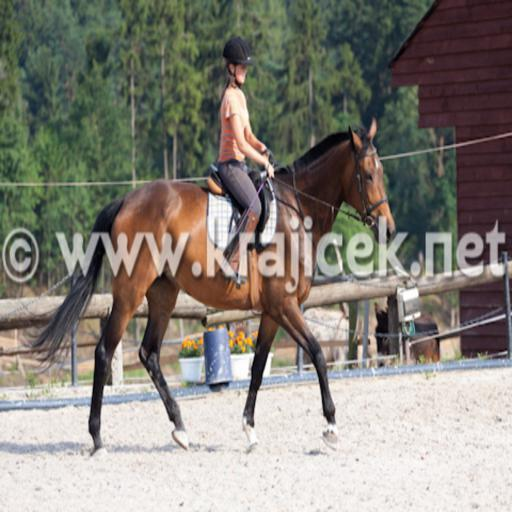horse: (20, 112, 398, 459)
